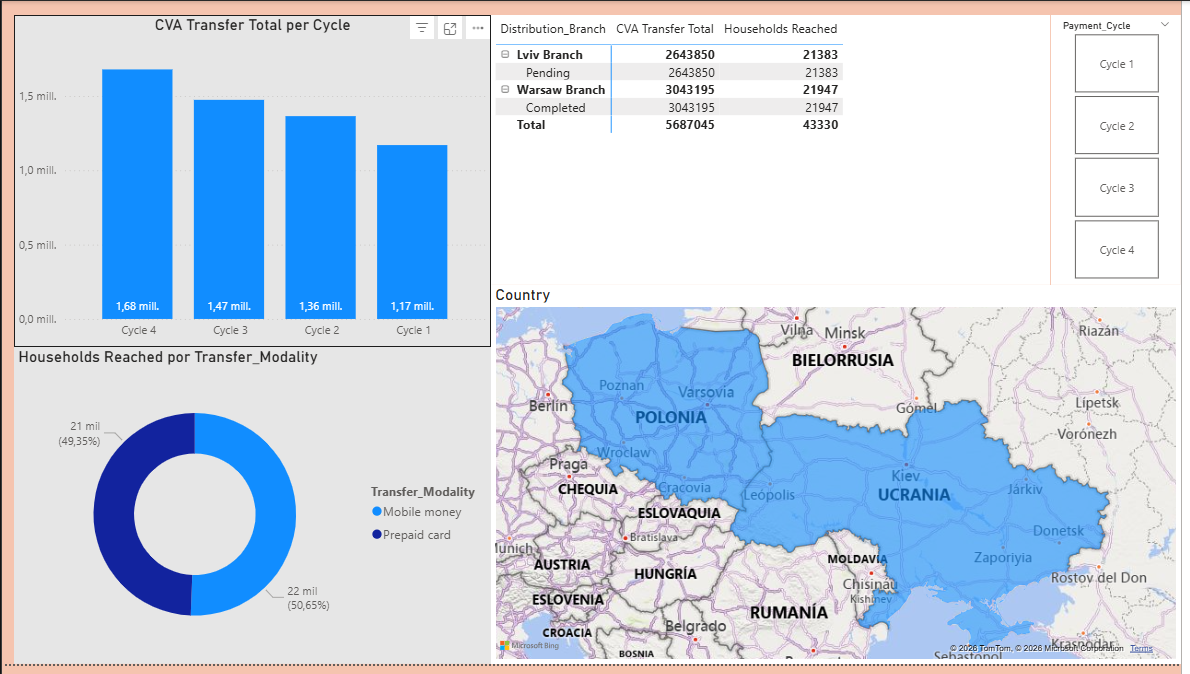

The dashboard page shown, as its layout file describes it:
{"tool":"powerbi","page":{"name":"CVA Operations","canvas":[1280,720],"ordinal":3},"visuals":[{"type":"clusteredColumnChart","title":"CVA Transfer Total per Cycle","fields":{"Category":["humanitarian_finance_fact.Payment_Cycle"],"Y":["humanitarian_finance_fact.CVA Transfer Total"]},"box":[12.9,15.7,518.6,360],"z":0},{"type":"donutChart","fields":{"Category":["humanitarian_finance_fact.Transfer_Modality"],"Y":["humanitarian_finance_fact.Households Reached"]},"box":[12.9,375.7,518.6,344.3],"z":1},{"type":"pivotTable","fields":{"Rows":["humanitarian_finance_fact.Distribution_Branch","humanitarian_finance_fact.PDM_Status"],"Values":["humanitarian_finance_fact.CVA Transfer Total","humanitarian_finance_fact.Households Reached"]},"box":[531.4,15.7,607.1,292.9],"z":2},{"type":"slicer","fields":{"Values":["humanitarian_finance_fact.Payment_Cycle"]},"box":[1138.6,15.7,141.4,292.9],"z":3},{"type":"filledMap","fields":{"Category":["humanitarian_finance_fact.Country"]},"box":[531.4,308.6,748.6,411.4],"z":4}]}

Visuals, with their boxes in screenshot pixels (x1, y1, x2, y2), scaled from the page's 1280x720 canvas onto the 1190x674 screenshot:
"CVA Transfer Total per Cycle" clusteredColumnChart: (12, 15, 494, 352)
donutChart - humanitarian_finance_fact.Transfer_Modality x humanitarian_finance_fact.Households Reached: (12, 352, 494, 673)
pivotTable - humanitarian_finance_fact.Distribution_Branch x humanitarian_finance_fact.PDM_Status: (494, 15, 1058, 289)
slicer - humanitarian_finance_fact.Payment_Cycle: (1059, 15, 1189, 289)
filledMap - humanitarian_finance_fact.Country: (494, 289, 1189, 673)
